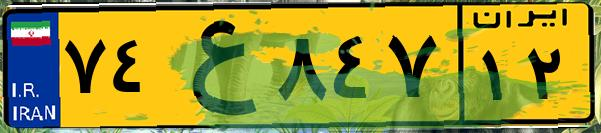1: (475, 38, 525, 113)
2: (525, 38, 570, 115)
4: (330, 28, 385, 110), (110, 28, 158, 98)
7: (385, 28, 445, 110), (57, 26, 110, 100)
8: (270, 28, 330, 110)
ع: (158, 12, 270, 120)
